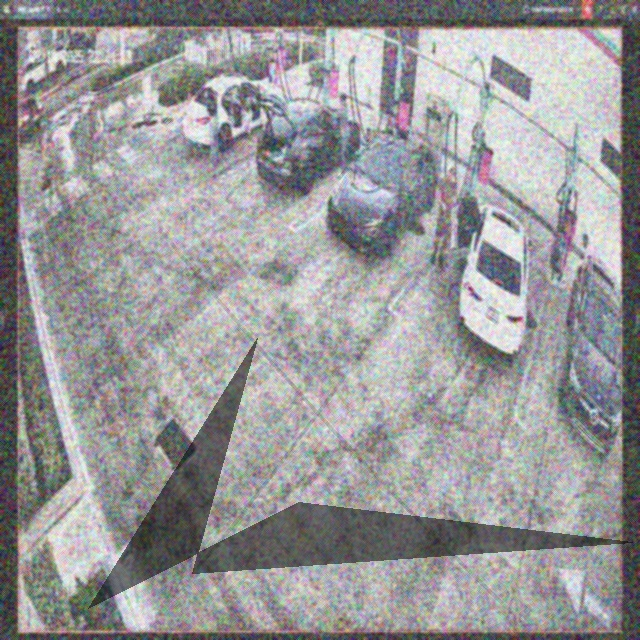Car: (328, 131, 435, 264), (458, 190, 528, 367), (258, 93, 359, 199), (182, 72, 285, 153)
